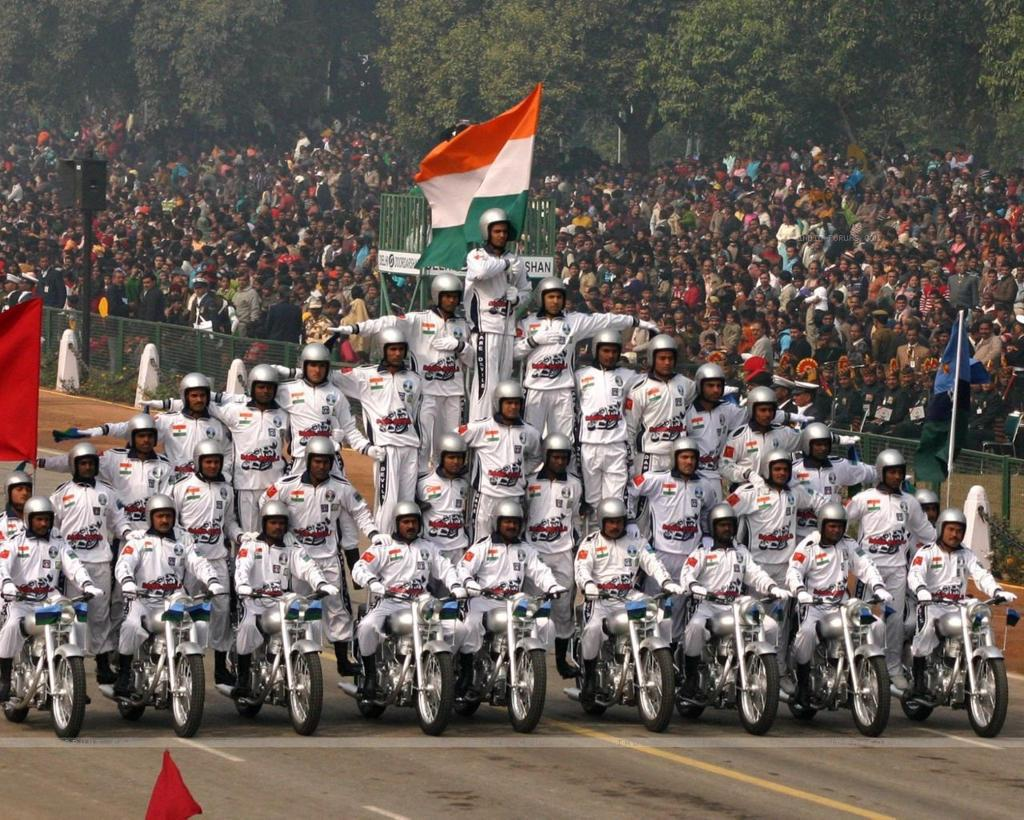face: (310, 452, 331, 481), (547, 448, 569, 474), (944, 522, 965, 548), (399, 515, 420, 540), (598, 344, 619, 368), (154, 508, 174, 533), (307, 356, 327, 381), (445, 449, 465, 474), (885, 465, 905, 490), (256, 378, 275, 404), (189, 385, 207, 412), (500, 515, 520, 539), (32, 511, 51, 536), (656, 350, 674, 375), (78, 455, 97, 478), (136, 427, 155, 450), (202, 453, 221, 476), (387, 344, 406, 367), (605, 515, 624, 538), (811, 437, 830, 460), (678, 451, 696, 475), (716, 518, 734, 542), (267, 515, 286, 537), (825, 518, 843, 541), (704, 380, 722, 403), (545, 293, 563, 316), (502, 395, 520, 417), (441, 290, 459, 312), (921, 502, 938, 525), (772, 462, 789, 485), (492, 224, 509, 247), (756, 405, 774, 426), (19, 483, 32, 505), (793, 390, 808, 404), (751, 324, 763, 338), (979, 324, 990, 339), (773, 384, 784, 399), (824, 367, 835, 381), (747, 265, 759, 277), (311, 305, 322, 318), (705, 338, 715, 352), (864, 373, 875, 385), (840, 376, 851, 388), (820, 333, 830, 346), (675, 314, 685, 327), (889, 375, 898, 389), (939, 334, 950, 345), (822, 315, 833, 326), (790, 328, 800, 340), (988, 274, 999, 284), (996, 259, 1007, 269), (896, 300, 906, 311), (755, 294, 765, 305), (640, 310, 651, 320), (971, 382, 982, 392), (909, 258, 918, 270), (778, 319, 787, 331), (810, 263, 819, 275), (115, 273, 124, 285), (257, 257, 266, 269), (938, 250, 948, 260), (143, 279, 153, 289), (908, 331, 917, 342), (904, 373, 913, 384), (894, 325, 903, 336), (710, 318, 719, 329), (666, 324, 675, 335), (704, 262, 713, 273), (194, 284, 203, 295), (70, 318, 79, 329), (272, 281, 281, 292), (331, 305, 340, 316), (874, 370, 882, 382), (851, 328, 859, 340), (656, 318, 664, 330), (841, 259, 849, 271), (999, 311, 1009, 320), (986, 213, 995, 223), (589, 292, 598, 302), (770, 325, 779, 335), (982, 382, 992, 391), (174, 301, 183, 311), (888, 274, 896, 285), (761, 275, 769, 286), (155, 257, 163, 268), (336, 267, 344, 278), (930, 276, 939, 285), (909, 278, 918, 287), (702, 318, 711, 327), (734, 283, 743, 292), (626, 305, 635, 314), (565, 301, 574, 310), (644, 291, 653, 300), (671, 301, 680, 310), (601, 285, 610, 294), (863, 220, 872, 229), (635, 272, 644, 281), (694, 255, 703, 264), (238, 278, 247, 287), (240, 264, 249, 273), (332, 240, 341, 249), (38, 242, 47, 251), (937, 216, 945, 226), (873, 265, 881, 275), (659, 302, 667, 312), (717, 255, 727, 263), (299, 291, 307, 301), (41, 258, 49, 268), (253, 281, 261, 291), (21, 227, 29, 237), (280, 237, 288, 247), (9, 264, 17, 274), (788, 248, 795, 259), (866, 253, 873, 264), (318, 273, 325, 284), (288, 266, 295, 277), (1002, 266, 1010, 275), (924, 264, 932, 273), (967, 203, 975, 212), (727, 314, 735, 323), (767, 302, 775, 311), (793, 267, 801, 276), (616, 305, 625, 313), (676, 256, 684, 265), (815, 199, 823, 208), (735, 263, 743, 272), (329, 282, 337, 291), (152, 237, 160, 246), (106, 226, 114, 235), (9, 281, 17, 290), (984, 296, 991, 306), (957, 234, 964, 244), (850, 264, 857, 274), (767, 243, 774, 253), (833, 234, 840, 244), (554, 256, 561, 266), (698, 308, 705, 318), (366, 277, 373, 287), (79, 275, 86, 285), (183, 238, 190, 248), (368, 147, 375, 157), (326, 224, 333, 234), (66, 258, 73, 268), (589, 206, 596, 216), (850, 298, 858, 306), (779, 277, 787, 285), (686, 277, 694, 285), (681, 240, 689, 248), (580, 261, 588, 269), (637, 232, 645, 240), (743, 253, 751, 261), (673, 277, 681, 285), (884, 265, 892, 273), (800, 301, 808, 309), (726, 284, 734, 292), (370, 288, 378, 296), (172, 289, 180, 297), (123, 253, 131, 261), (24, 281, 32, 289), (1016, 324, 1023, 333), (1017, 268, 1024, 277), (1004, 239, 1011, 248), (921, 279, 928, 288), (946, 229, 953, 238), (687, 324, 694, 333), (643, 255, 650, 264), (611, 246, 618, 255), (586, 242, 593, 251), (586, 231, 593, 240), (762, 231, 769, 240), (808, 232, 815, 241), (633, 209, 640, 218), (744, 180, 751, 189), (344, 275, 351, 284), (76, 258, 83, 267), (137, 243, 144, 252), (116, 255, 123, 264), (299, 191, 306, 200), (723, 210, 730, 219), (374, 209, 381, 218), (241, 242, 248, 251), (931, 295, 938, 304), (864, 355, 870, 365), (615, 284, 621, 294), (189, 209, 195, 219), (957, 264, 965, 271), (855, 309, 862, 317), (774, 267, 781, 275), (830, 274, 837, 282), (874, 255, 881, 263), (760, 264, 767, 272), (610, 264, 618, 271), (577, 236, 584, 244), (730, 243, 737, 251), (558, 240, 565, 248), (816, 239, 823, 247), (758, 184, 765, 192), (836, 189, 843, 197), (222, 278, 229, 286), (104, 276, 111, 284), (182, 277, 189, 285), (325, 266, 332, 274), (137, 216, 144, 224), (310, 223, 317, 231), (319, 224, 326, 232), (211, 231, 218, 239), (40, 219, 48, 226), (184, 220, 191, 228), (713, 162, 720, 170), (26, 203, 33, 211), (969, 258, 975, 267), (928, 319, 934, 328), (831, 294, 837, 303), (889, 208, 895, 217), (905, 188, 911, 197), (811, 215, 817, 224), (706, 300, 712, 309), (218, 277, 224, 286), (191, 255, 197, 264), (195, 194, 201, 203), (354, 175, 360, 184), (252, 230, 258, 239), (826, 190, 832, 199), (304, 150, 310, 159), (370, 249, 375, 259), (239, 215, 244, 225), (1007, 345, 1014, 352), (929, 227, 936, 234), (890, 256, 897, 263), (795, 279, 802, 286), (670, 247, 677, 254), (570, 267, 577, 274), (875, 196, 882, 203), (774, 197, 781, 204), (943, 175, 950, 182), (355, 272, 362, 279), (263, 288, 270, 295), (218, 257, 225, 264), (635, 196, 642, 203), (132, 267, 139, 274), (819, 167, 826, 174), (593, 215, 600, 222), (659, 170, 666, 177), (41, 231, 48, 238), (65, 279, 72, 286), (683, 262, 689, 270), (627, 269, 633, 277), (658, 243, 664, 251), (751, 222, 757, 230), (732, 231, 738, 239), (789, 187, 795, 195), (573, 207, 579, 215), (769, 314, 775, 322), (717, 240, 723, 248), (894, 188, 900, 196), (962, 190, 968, 198), (883, 191, 889, 199), (160, 274, 166, 282), (162, 266, 168, 274), (324, 307, 330, 315), (315, 241, 321, 249), (68, 229, 74, 237), (150, 192, 156, 200), (698, 167, 704, 175), (276, 222, 282, 230), (583, 195, 589, 203), (887, 173, 892, 182), (833, 165, 838, 174), (784, 215, 790, 222), (623, 293, 629, 300), (625, 180, 631, 187), (705, 234, 711, 241), (931, 172, 937, 179), (286, 212, 292, 219), (192, 233, 198, 240), (75, 228, 81, 235), (126, 222, 132, 229), (228, 234, 235, 240), (686, 197, 692, 204), (551, 181, 557, 188), (657, 179, 663, 186), (814, 188, 820, 195), (556, 208, 562, 215), (1012, 234, 1017, 242), (672, 238, 677, 246), (710, 245, 715, 253), (354, 241, 359, 249), (849, 160, 855, 166), (994, 177, 1000, 183), (913, 159, 919, 165), (705, 204, 711, 210), (279, 214, 285, 220), (44, 193, 50, 199), (249, 166, 255, 172), (973, 216, 978, 223), (865, 195, 870, 202), (779, 179, 784, 186), (736, 160, 741, 167), (953, 198, 958, 205), (891, 179, 896, 186), (699, 204, 704, 211), (649, 189, 654, 196), (799, 190, 804, 197), (793, 209, 798, 216), (120, 227, 125, 234), (605, 260, 610, 266), (1007, 179, 1012, 185), (975, 180, 980, 186), (190, 200, 195, 206), (546, 182, 551, 188), (609, 181, 614, 187), (600, 178, 605, 184), (316, 175, 321, 181), (717, 201, 721, 208), (704, 166, 708, 173), (138, 234, 142, 241), (177, 197, 181, 204)
